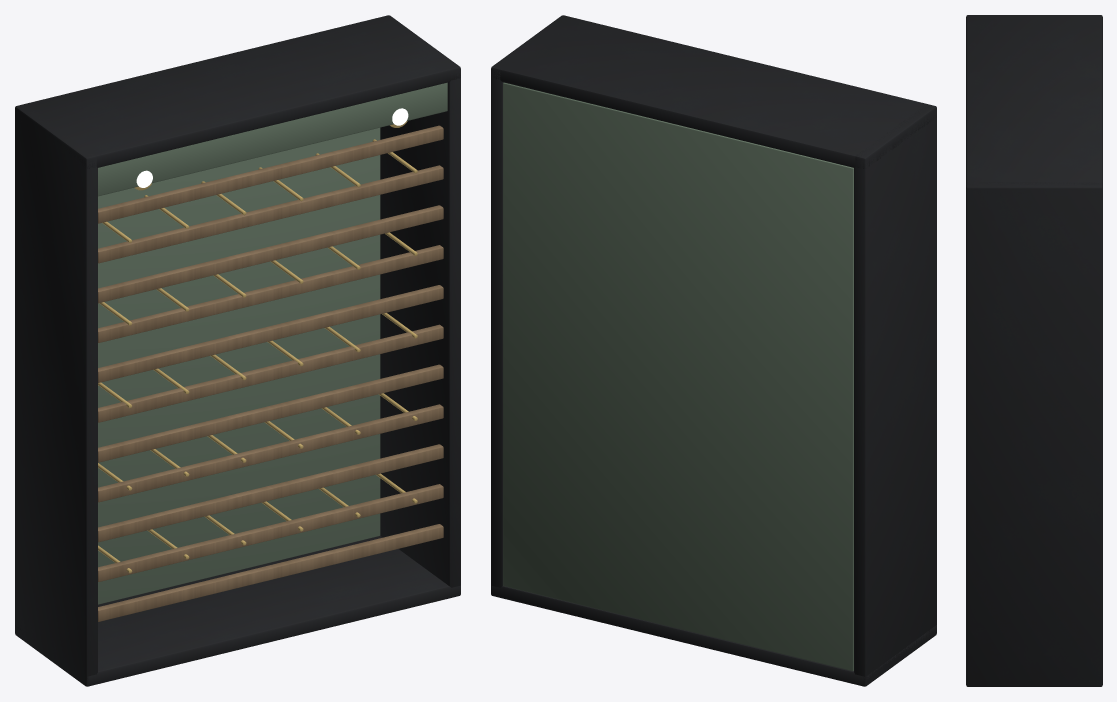
Rendered from pf_display_accessory_rack_t3.glb.
3 views of the same model, side by side, from view 1: azimuth 30°, elevation 25°; view 2: azimuth 150°, elevation 25°; view 3: azimuth 270°, elevation 25° (orthographic). The views are drawn at different scales.
Parts seen in each view (by area): view 1: Case_Back, Case_Left, Case_Top, Case_Right, Case_Base, Header_Back, Accessory_Slat_05, Accessory_Slat_11, Accessory_Slat_01, Accessory_Slat_03, Accessory_Slat_07, Accessory_Slat_09 (+5 smaller); view 2: Case_Back, Case_Left, Case_Top, Case_Right, Case_Base; view 3: Case_Right, Case_Top.
Boxes of the visible parts, box(x1,y1,x2,y2) form: Case_Back: box(98, 127, 380, 604); Case_Left: box(15, 104, 97, 686); Case_Top: box(15, 15, 460, 168); Case_Right: box(380, 41, 460, 597); Case_Base: box(20, 535, 460, 686); Header_Back: box(98, 82, 447, 196); Accessory_Slat_05: box(98, 364, 443, 462); Accessory_Slat_11: box(98, 125, 443, 223); Accessory_Slat_01: box(98, 524, 443, 621); Accessory_Slat_03: box(98, 444, 443, 542); Accessory_Slat_07: box(98, 285, 443, 382); Accessory_Slat_09: box(98, 205, 443, 303); Case_Back: box(503, 82, 853, 671); Case_Left: box(854, 104, 936, 686); Case_Top: box(491, 15, 936, 168); Case_Right: box(491, 38, 531, 597); Case_Base: box(491, 585, 936, 686); Case_Right: box(966, 182, 1102, 686); Case_Top: box(966, 15, 1102, 193).
Size of the model in its own units: 1.5 by 2.02 by 0.5.
Materials: 6 (2 with a texture image).
